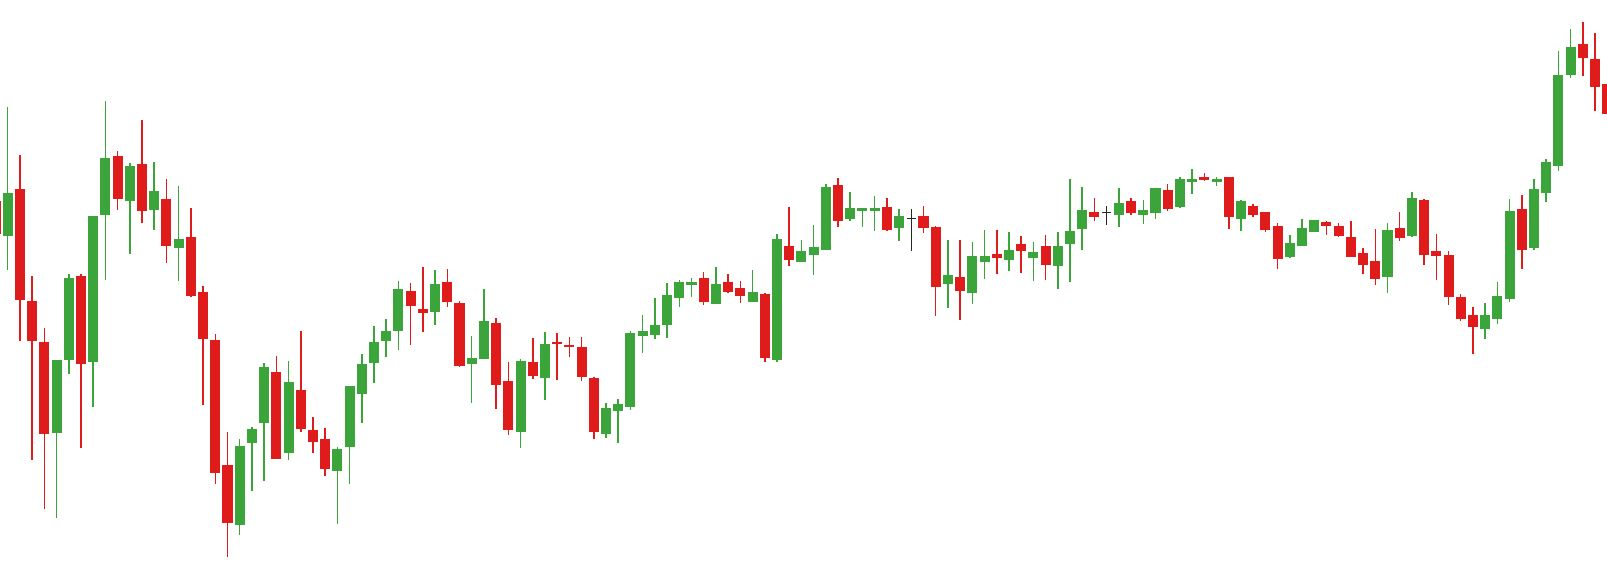buy: (38, 257, 247, 560), (254, 371, 344, 530), (636, 277, 787, 363)
sell: (1344, 192, 1431, 277)
